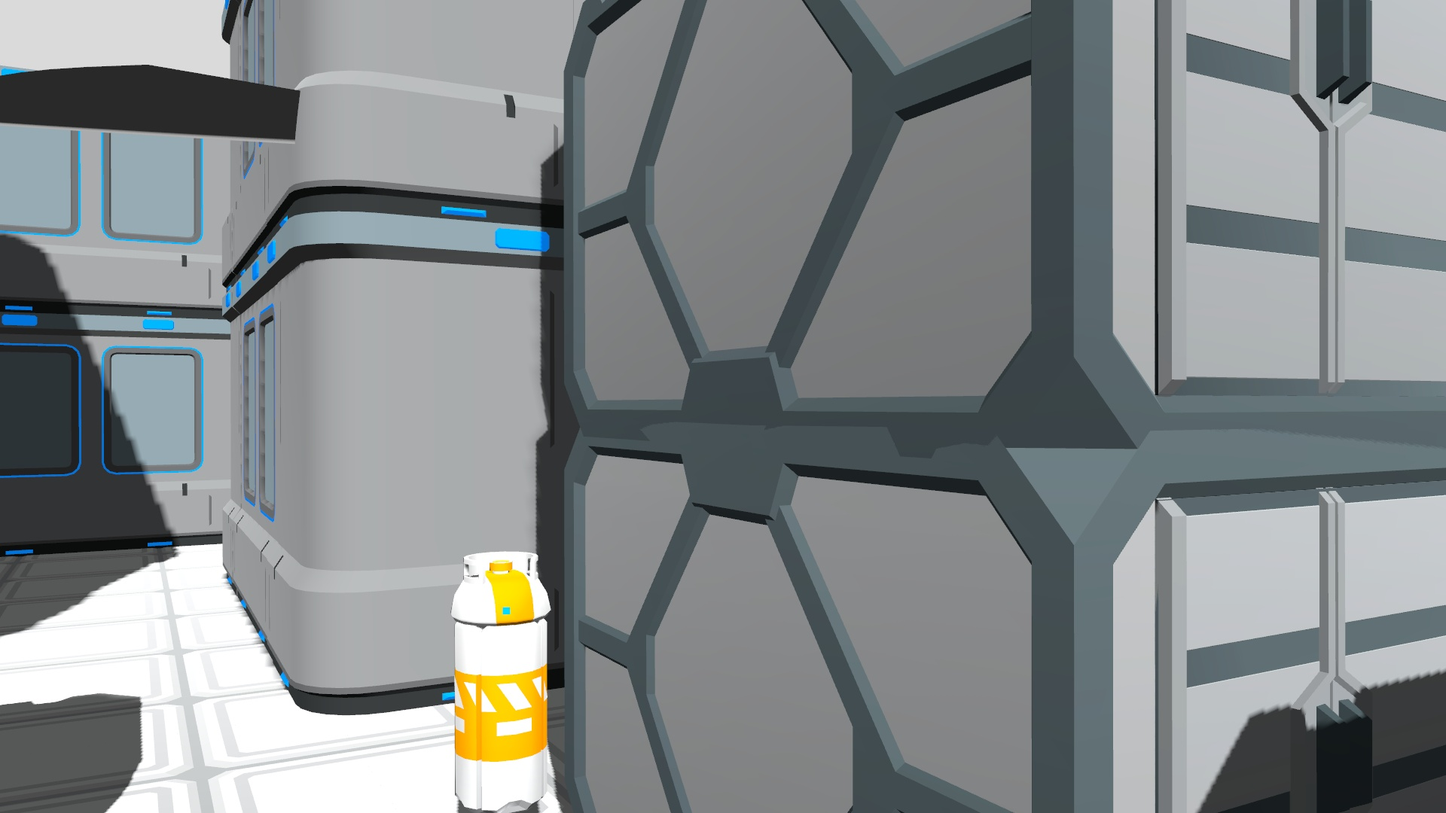yellow_barrel: (448, 544, 554, 812)
